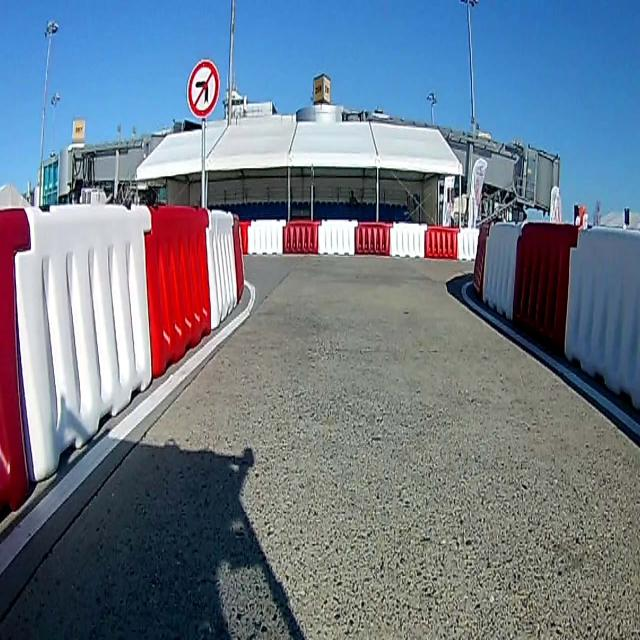soladonulmez: (189, 62, 218, 116)
